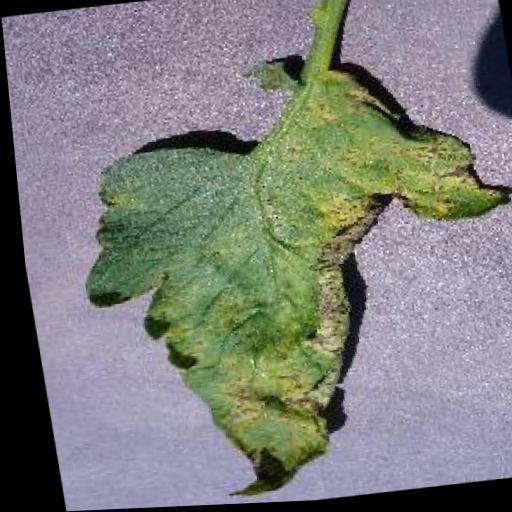Septoria: (45, 36, 512, 511)
